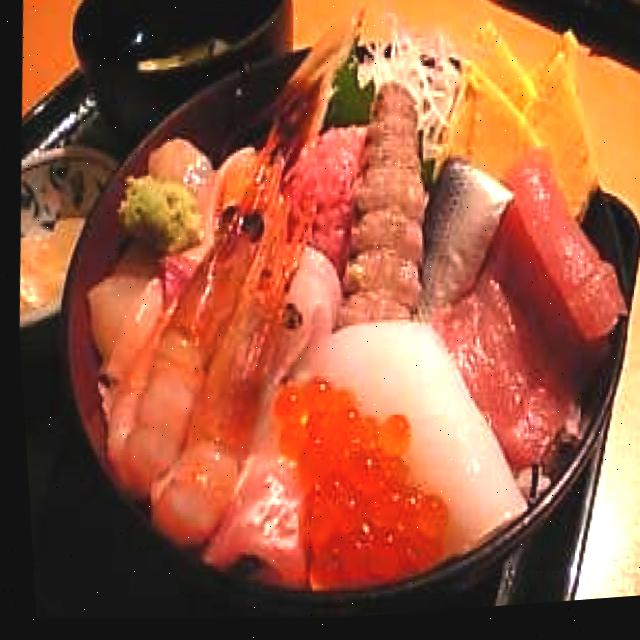刺身生食: (17, 1, 640, 639)
